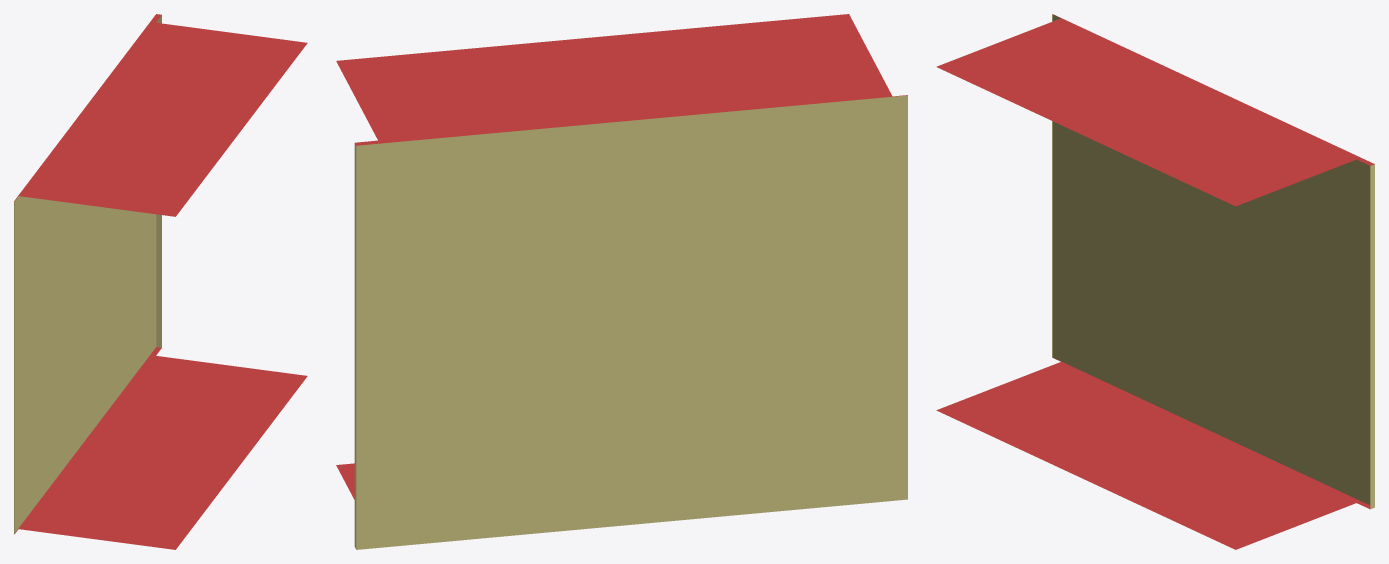
The picture shows the model from 3 angles, left to right: view 1: azimuth 30°, elevation 25°; view 2: azimuth 150°, elevation 25°; view 3: azimuth 270°, elevation 25°; orthographic projection. The views are drawn at different scales.
Parts seen in each view (by area): view 1: group_4, group_3, group_5; view 2: group_4, group_3; view 3: group_4, group_3, group_5.
Part boxes in pixels (x1=…): group_4: x1=14, y1=15, x2=161, y2=534; group_3: x1=14, y1=14, x2=307, y2=216; group_5: x1=14, y1=347, x2=307, y2=549; group_4: x1=354, y1=95, x2=907, y2=549; group_3: x1=336, y1=14, x2=907, y2=145; group_4: x1=1052, y1=14, x2=1374, y2=509; group_3: x1=936, y1=14, x2=1374, y2=206; group_5: x1=936, y1=357, x2=1370, y2=549.
Bounding box in the file's own units: 14.19 × 13.67 × 11.8.
